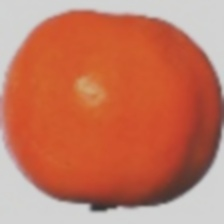tangerine: (49, 23, 200, 158)
